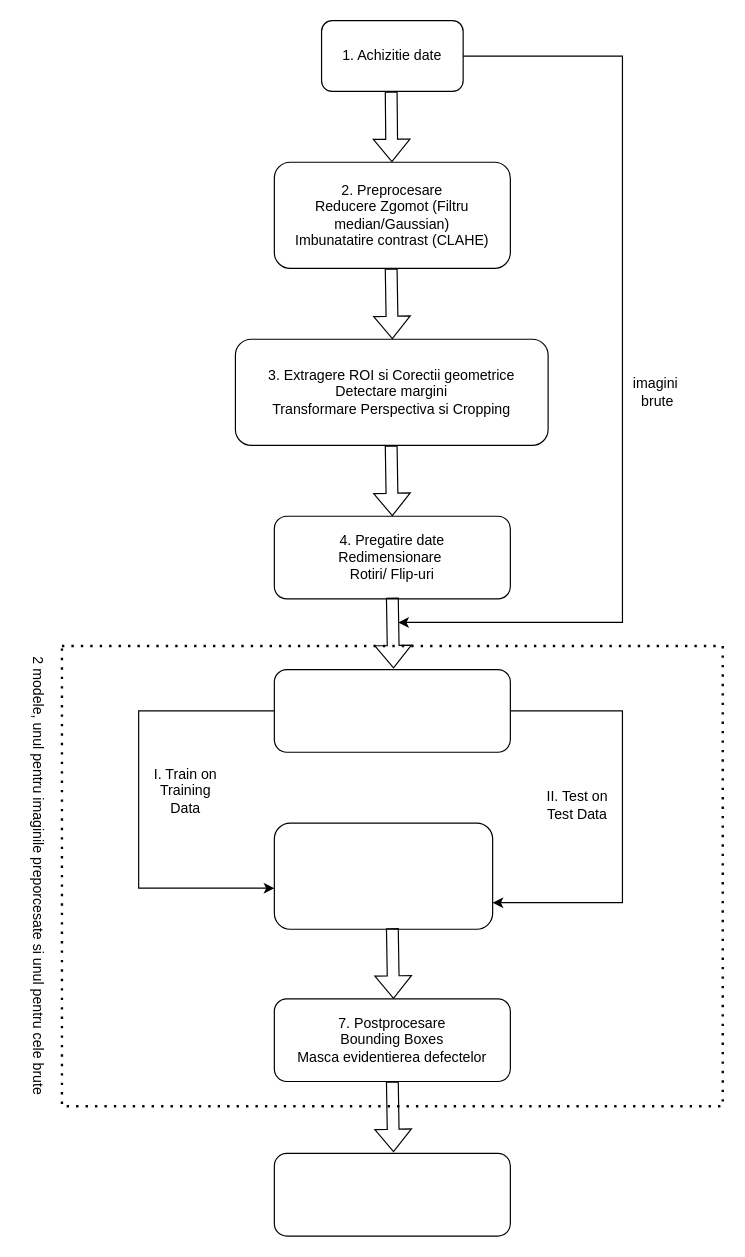
The diagram is 745 pixels wide and 1257 high, and some of its shapes have lost their labels. The shapes that lost their labels are listed below. From the top down, each one's centre as x and y in pixels, then its label:
At [391,710]: "5. Split Training & Test Data".
At [383,875]: "6. Reteaua Neuronala Convolutionala".
At [391,1194]: "8. Extragere concluzii Comparare rezultate imagini preprocesate VS imagini brute".
